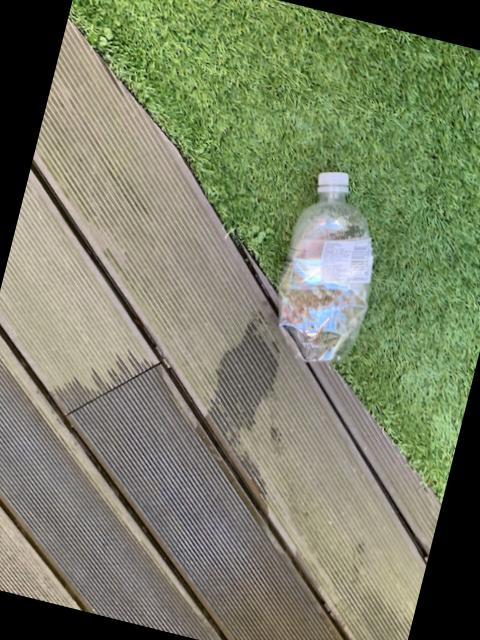plastic: (280, 174, 374, 363)
